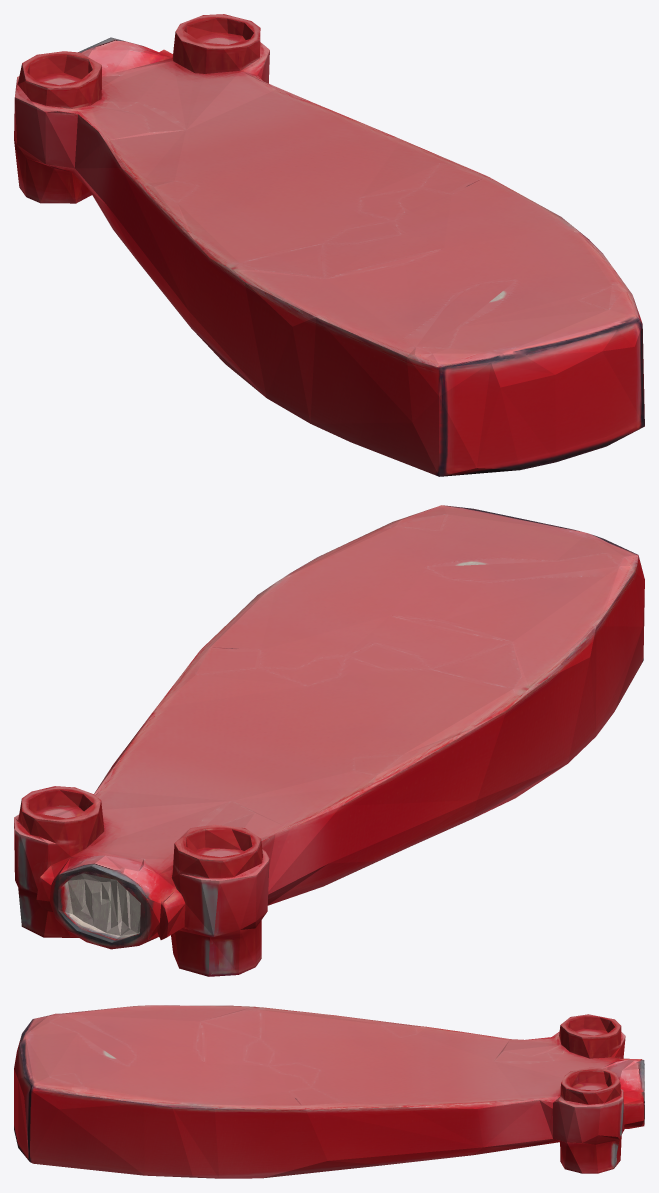
The model's file is flipper-bat.glb.
3 views of the same model, one above another, from view 1: azimuth 30°, elevation 25°; view 2: azimuth 150°, elevation 25°; view 3: azimuth 270°, elevation 25° (orthographic). The views are drawn at different scales.
Visible parts, largest first — view 1: world; view 2: world; view 3: world.
Part boxes in pixels (x1=…): world: x1=14, y1=14, x2=644, y2=476; world: x1=14, y1=505, x2=644, y2=976; world: x1=14, y1=1005, x2=644, y2=1178.
Bounding box in the file's own units: 7.75 × 3.01 × 20.
Materials: 1 (1 with a texture image).
